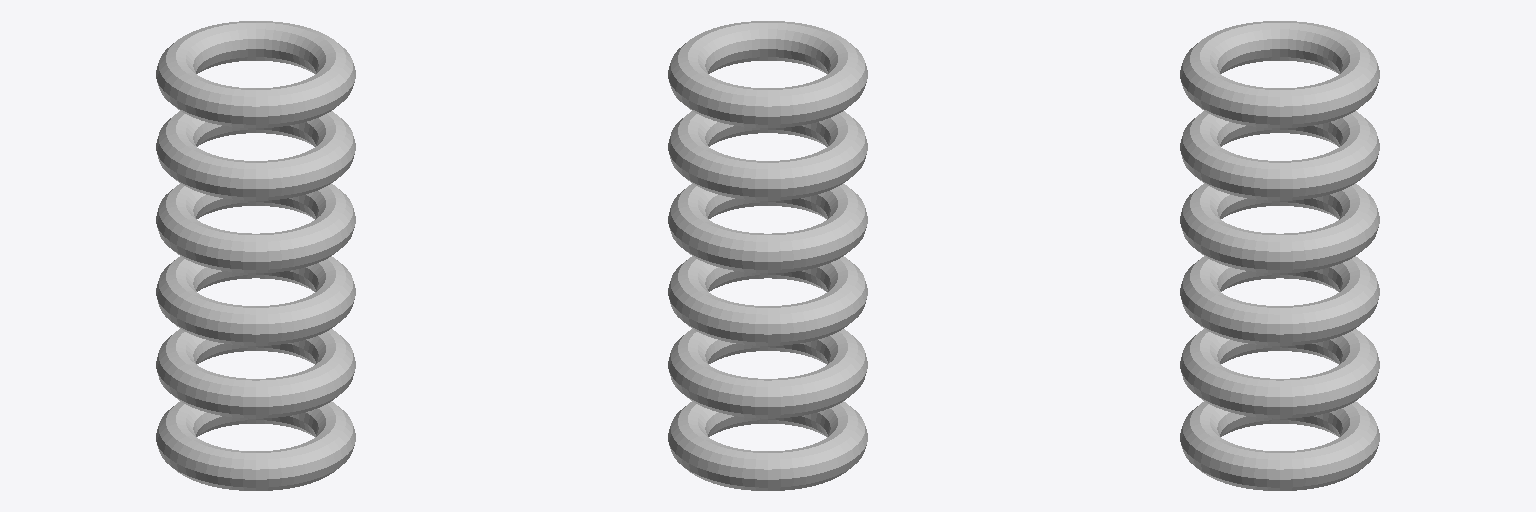
Rendered from Example01.obj.
3 renders of one model, left to right at view 1: azimuth 30°, elevation 25°; view 2: azimuth 150°, elevation 25°; view 3: azimuth 270°, elevation 25°, orthographic.
Visible parts, largest first — view 1: Torus.010, Torus.015, Torus.013, Torus.011, Torus.014, Torus.012; view 2: Torus.010, Torus.015, Torus.013, Torus.011, Torus.014, Torus.012; view 3: Torus.010, Torus.015, Torus.013, Torus.011, Torus.014, Torus.012.
Part boxes in pixels (x1,y1,x2,y2): Torus.010: (156,21,355,127); Torus.015: (156,401,355,490); Torus.013: (156,256,355,345); Torus.011: (156,111,355,200); Torus.014: (156,329,355,418); Torus.012: (156,183,355,272); Torus.010: (668,21,867,127); Torus.015: (668,401,867,490); Torus.013: (668,256,867,345); Torus.011: (668,111,867,200); Torus.014: (668,329,867,418); Torus.012: (668,183,867,272); Torus.010: (1180,21,1379,127); Torus.015: (1180,401,1379,490); Torus.013: (1180,256,1379,345); Torus.011: (1180,111,1379,200); Torus.014: (1180,329,1379,418); Torus.012: (1180,183,1379,272).
Size of the model in its own units: 2.5 by 5.5 by 2.5.